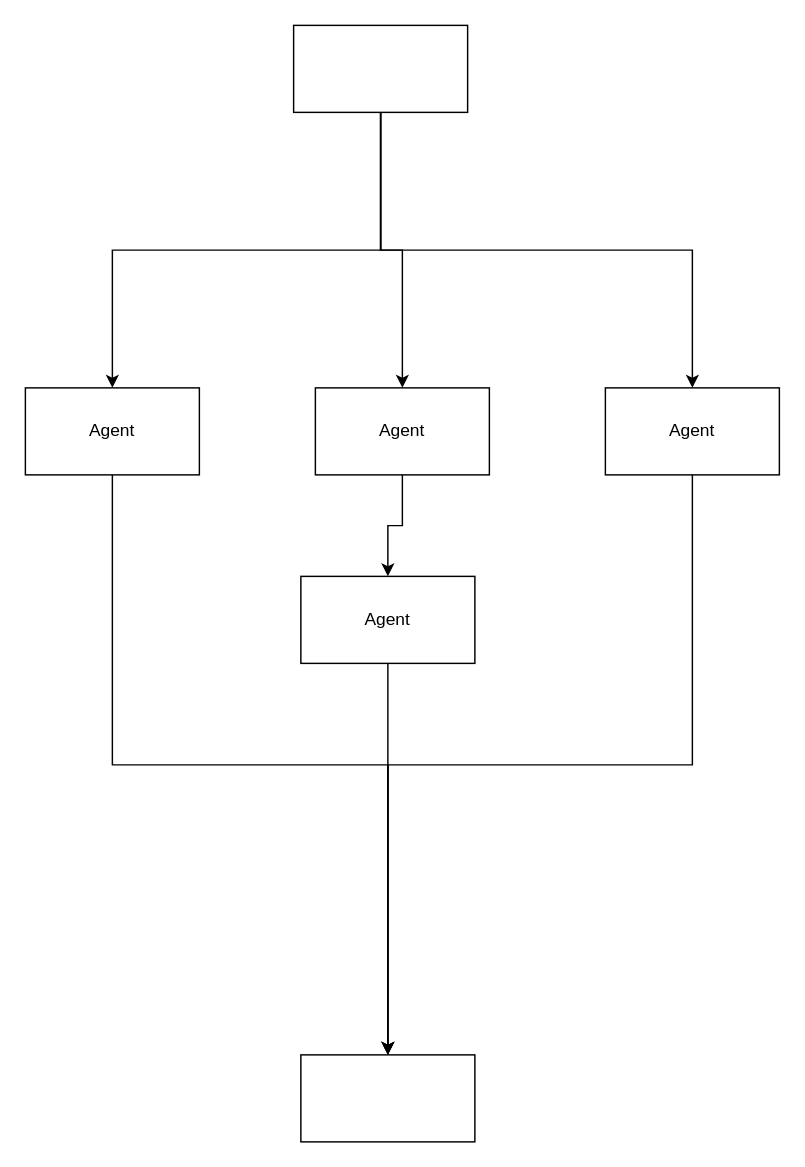
Some shapes in this 805 by 1167 pixel diagram are drawn without their labels. The centre of each missing label's shape, as x and y in pixels:
"input" goes at (x=380, y=68).
"output" goes at (x=387, y=1097).
